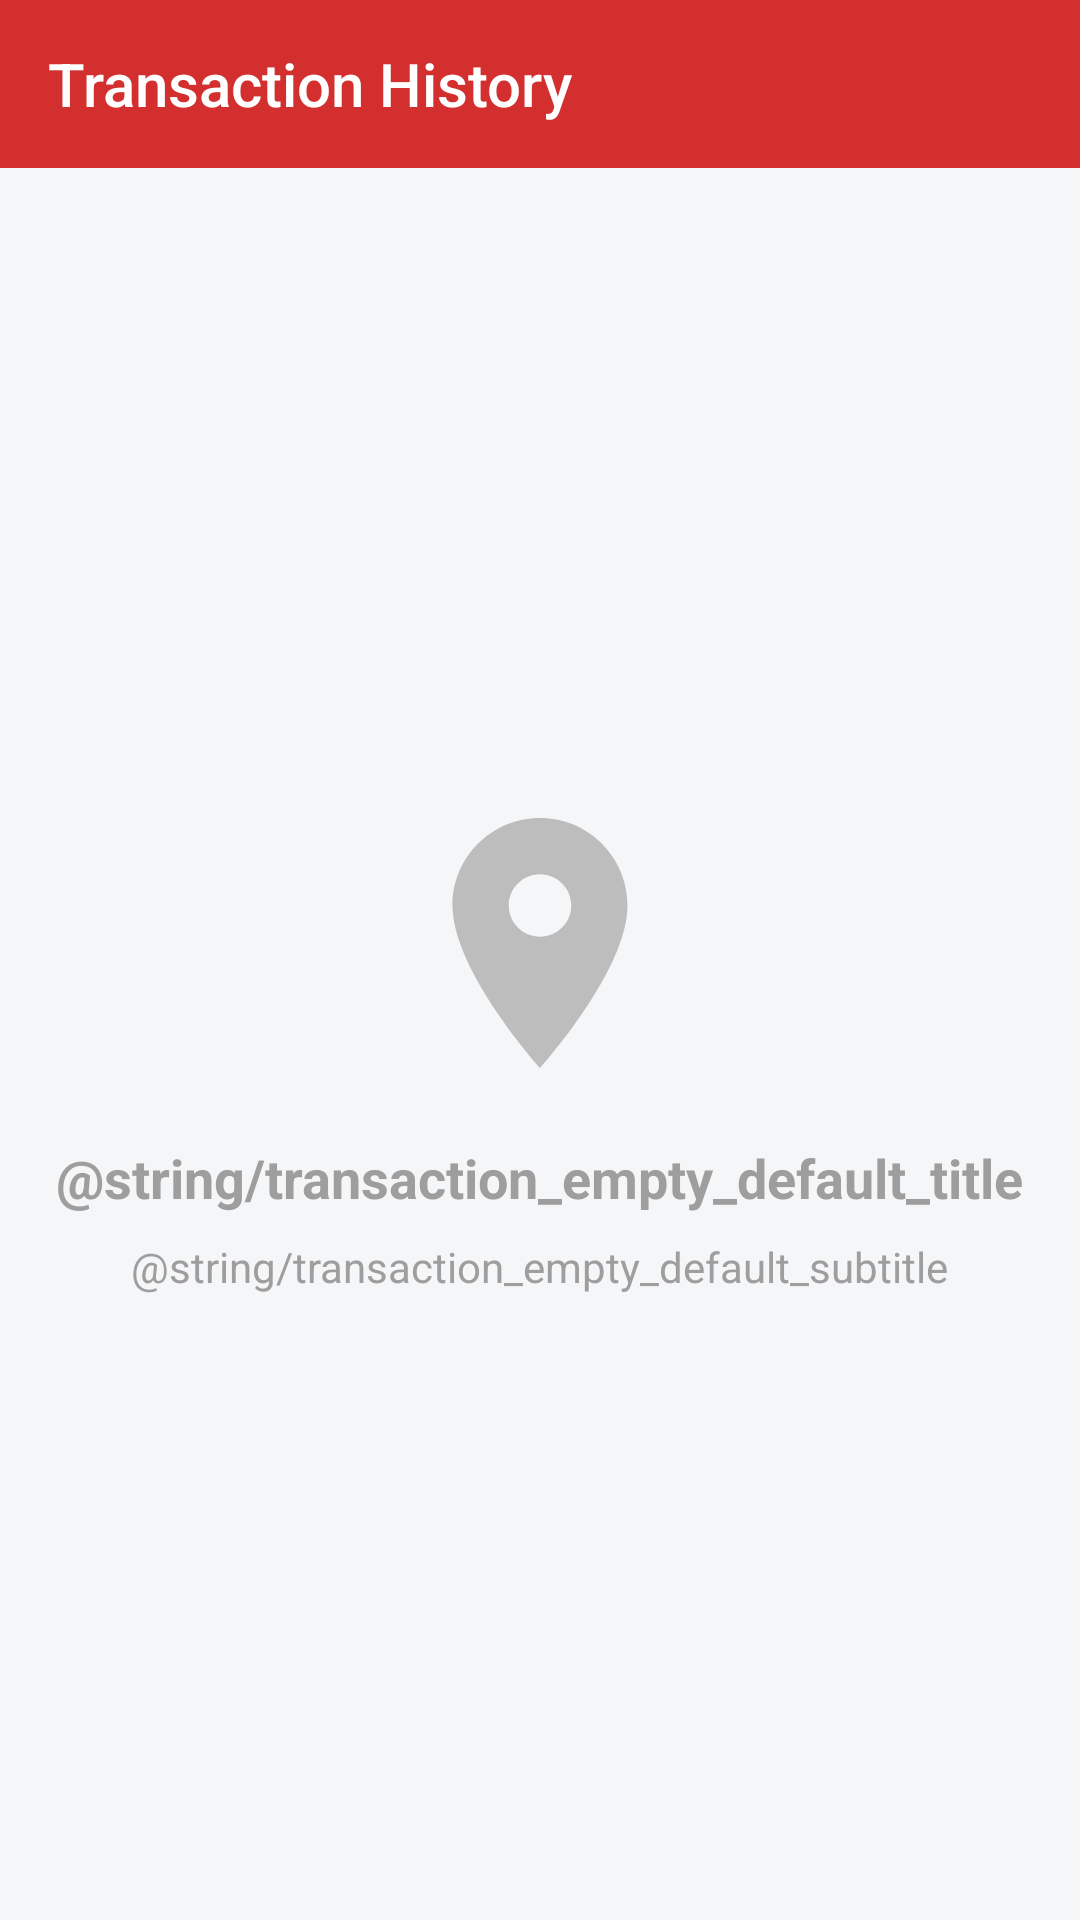

Icon click points for this 1080 × 1920 phone screenshot, format point (x, y):
location pin: point (540, 943)
